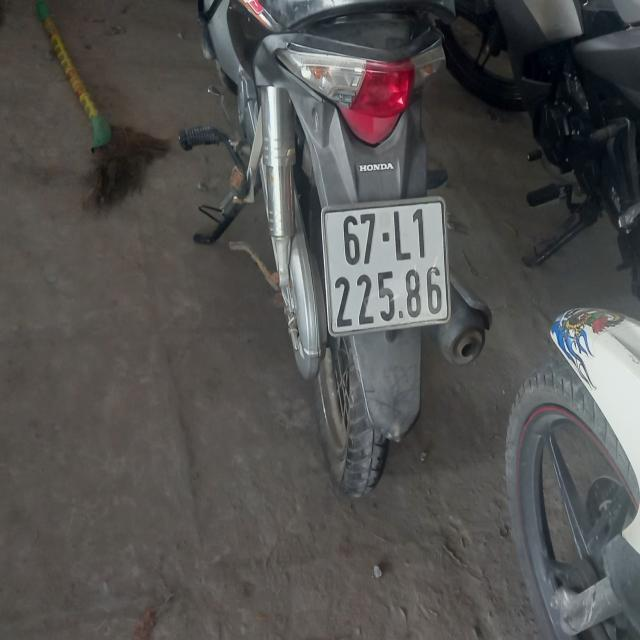1: (413, 208, 426, 258)
2: (334, 276, 352, 328), (356, 275, 374, 324)
5: (377, 271, 395, 321)
6: (344, 215, 360, 266), (426, 267, 441, 313)
7: (361, 214, 376, 264)
8: (405, 269, 421, 318)
L: (394, 211, 412, 262)
